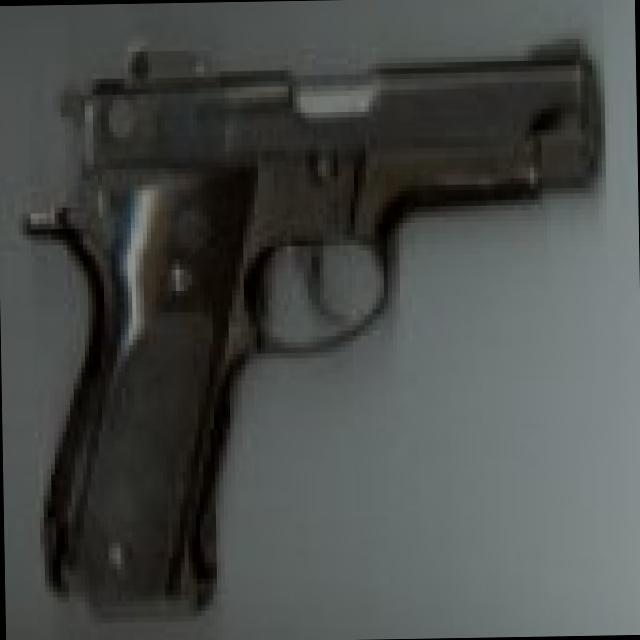handgun: (19, 22, 609, 618)
